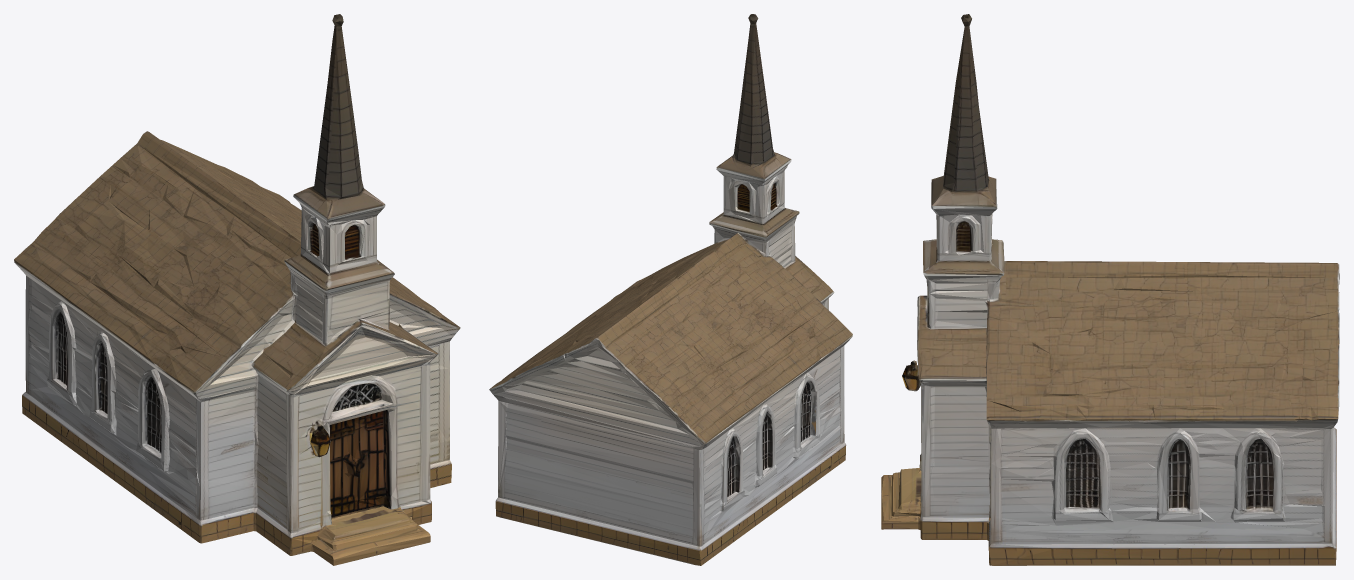
The model's file is church.glb.
The picture shows the model from 3 angles, left to right: view 1: azimuth 30°, elevation 25°; view 2: azimuth 150°, elevation 25°; view 3: azimuth 270°, elevation 25°; orthographic projection. The views are drawn at different scales.
Parts seen in each view (by area): view 1: textured_mesh.obj; view 2: textured_mesh.obj; view 3: textured_mesh.obj.
Boxes of the visible parts, left/top/right/bottom form: textured_mesh.obj: left=14, top=14, right=460, bottom=565; textured_mesh.obj: left=489, top=14, right=852, bottom=565; textured_mesh.obj: left=881, top=14, right=1339, bottom=565.
Size of the model in its own units: 1.1 by 1.99 by 1.68.
Materials: 1 (1 with a texture image).
